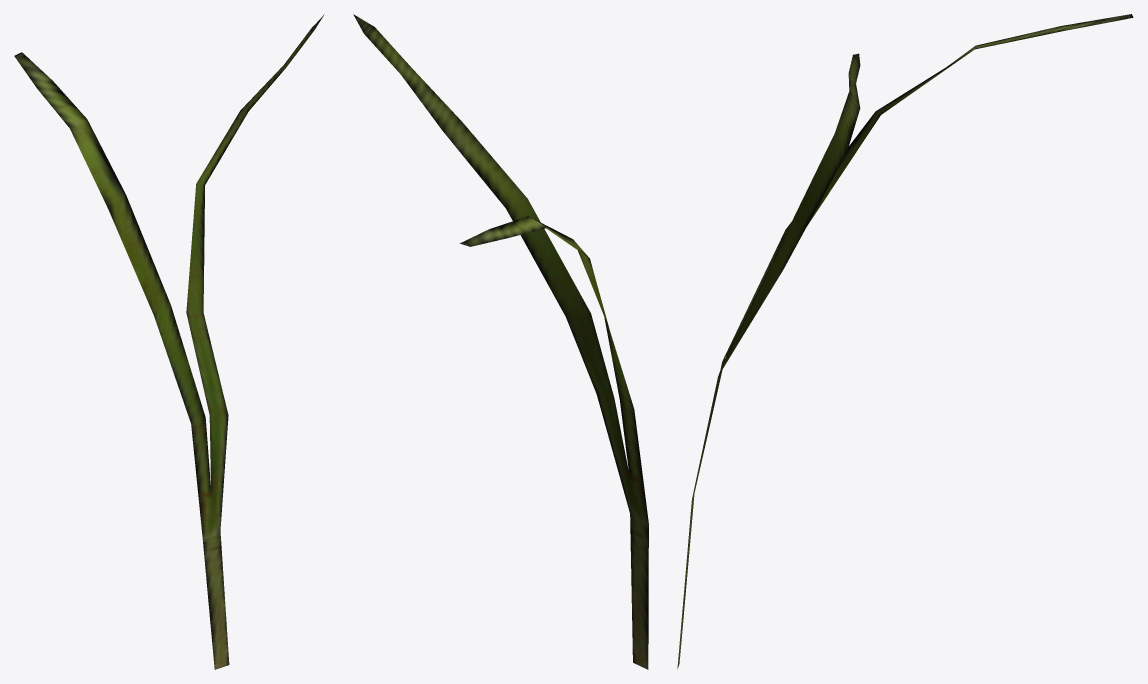
The model's file is grass_medium_01_tiny_b_LOD0.glb.
3 views of the same model, side by side, from view 1: azimuth 30°, elevation 25°; view 2: azimuth 150°, elevation 25°; view 3: azimuth 270°, elevation 25° (orthographic). The views are drawn at different scales.
Visible parts, largest first — view 1: grass_medium_01_tiny_b_LOD0; view 2: grass_medium_01_tiny_b_LOD0; view 3: grass_medium_01_tiny_b_LOD0.
Part boxes in pixels (<box>): grass_medium_01_tiny_b_LOD0: <box>14,14,324,669</box>; grass_medium_01_tiny_b_LOD0: <box>353,14,648,669</box>; grass_medium_01_tiny_b_LOD0: <box>677,14,1133,669</box>.
Bounding box in the file's own units: 0.0236 × 0.0602 × 0.0344.
Materials: 1 (1 with a texture image).
